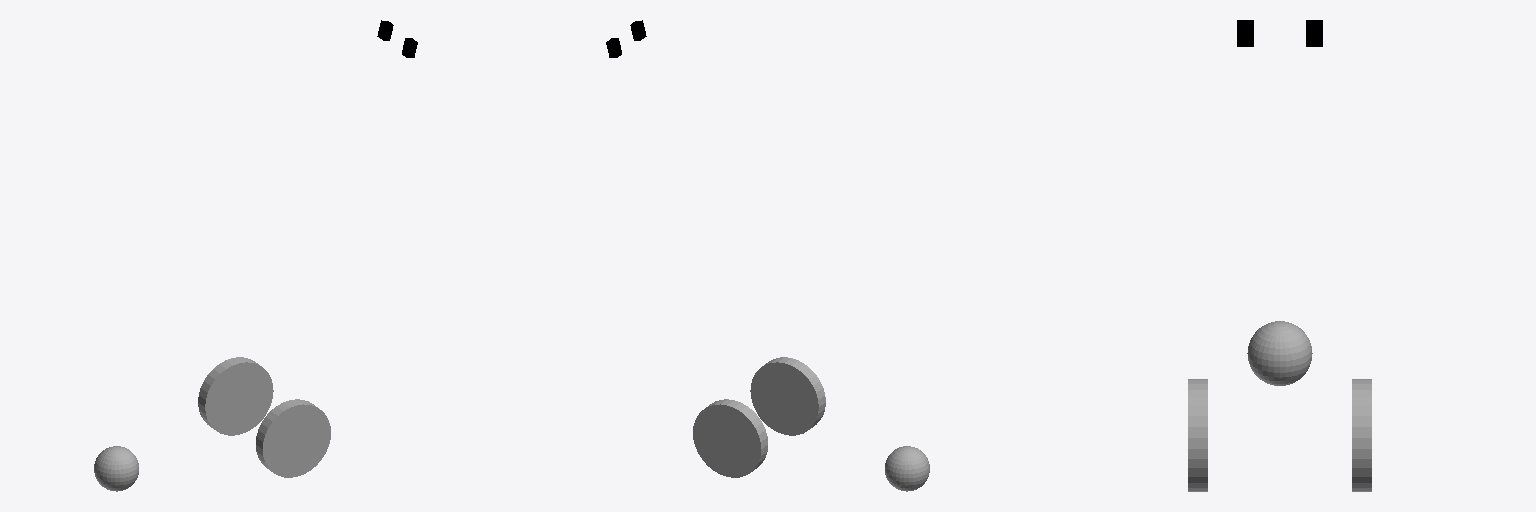
The robot description file, URDF, robot "k9_robot":
<?xml version="1.0" ?>
<!-- =================================================================================== -->
<!-- |    This document was autogenerated by xacro from k9.urdf.xacro                  | -->
<!-- |    EDITING THIS FILE BY HAND IS NOT RECOMMENDED                                 | -->
<!-- =================================================================================== -->
<robot name="k9_robot">
  <!-- ===================================================== -->
  <!-- To generate SDF for Gazebo Sim                        -->
  <!-- ros2 run xacro xacro k9.urdf.xacro > k9.urdf          -->
  <!-- gz sdf -p k9.urdf > k9_raw.sdf                        -->
  <!-- python3 patch_friction.py k9_raw.sdf k9_robot.sdf     -->
  <!-- ===================================================== -->
  <!-- ===================================================== -->
  <!-- Materials                                             -->
  <!-- ===================================================== -->
  <material name="K9_grey">
    <color rgba="0.25 0.25 0.25 1.0"/>
  </material>
  <material name="wheel_grey">
    <color rgba="0.7 0.7 0.7 1.0"/>
  </material>
  <material name="k9_ear_emissive">
    <color rgba="0 0 0 1"/>
  </material>
  <material name="k9_beam_material">
    <color rgba="0 1 0 1"/>
  </material>
  <!-- ===================================================== -->
  <!-- Frames                                                -->
  <!-- ===================================================== -->
  <link name="base_footprint"/>
  <!-- ===================================================== -->
  <!-- Base / chassis                                        -->
  <!-- ===================================================== -->
  <link name="base_link">
    <!-- Visual -->
    <visual>
      <origin rpy="0 0 3.141592653589793" xyz="-0.5 1.905 -0.0694"/>
      <geometry>
        <mesh filename="file://[local-path]/Documents/GitHub/k9-gazebo/src/k9_description/urdf/k9.stl" scale="0.01 0.01 0.01"/>
      </geometry>
      <material name="K9_grey"/>
    </visual>
    <!-- Collision -->
    <collision>
      <origin xyz="0.0 0.0 0.44"/>
      <geometry>
        <box size="1.05 0.49 0.74"/>
      </geometry>
    </collision>
    <!-- Inertia: main shell + structure -->
    <!-- CHANGED: lower + slightly rear-shift COM, and increase pitch inertia (iyy) -->
    <inertial>
      <!-- was: -0.02 0 0.20 -->
      <origin xyz="-0.06 0 0.16"/>
      <mass value="19.0"/>
      <inertia ixx="0.80" ixy="0" ixz="0" iyy="2.40" iyz="0" izz="1.70"/>
    </inertial>
  </link>
  <joint name="base_joint" type="fixed">
    <parent link="base_footprint"/>
    <child link="base_link"/>
    <origin xyz="0 0 0.0694"/>
  </joint>
  <!-- ===================================================== -->
  <!-- Battery (low + central)                               -->
  <!-- ===================================================== -->
  <link name="battery_link">
    <collision>
      <geometry>
        <box size="0.25 0.20 0.25"/>
      </geometry>
    </collision>
    <inertial>
      <origin xyz="0 0 0"/>
      <mass value="5.0"/>
      <inertia ixx="1e-4" ixy="0" ixz="0" iyy="1e-4" iyz="0" izz="1e-4"/>
    </inertial>
  </link>
  <joint name="battery_joint" type="fixed">
    <parent link="base_link"/>
    <child link="battery_link"/>
    <origin xyz="0 0 0.18"/>
  </joint>
  <!-- ===================================================== -->
  <!-- Motors                                                -->
  <!-- ===================================================== -->
  <link name="motors_link">
    <collision>
      <geometry>
        <box size="0.20 0.20 0.10"/>
      </geometry>
    </collision>
    <inertial>
      <origin xyz="0 0 0"/>
      <mass value="3.0"/>
      <inertia ixx="1e-4" ixy="0" ixz="0" iyy="1e-4" iyz="0" izz="1e-4"/>
    </inertial>
  </link>
  <joint name="motors_joint" type="fixed">
    <parent link="base_link"/>
    <child link="motors_link"/>
    <origin xyz="0 0 0.10"/>
  </joint>
  <link name="drivewhl_l_link">
    <visual>
      <origin rpy="1.5707963267948966 0 0"/>
      <geometry>
        <cylinder length="0.025" radius="0.0694"/>
      </geometry>
      <material name="wheel_grey"/>
    </visual>
    <collision>
      <origin rpy="1.5707963267948966 0 0"/>
      <geometry>
        <cylinder length="0.025" radius="0.0694"/>
      </geometry>
    </collision>
    <inertial>
      <mass value="1.0"/>
      <inertia ixx="0.002" ixy="0" ixz="0" iyy="0.002" iyz="0" izz="0.004"/>
    </inertial>
  </link>
  <gazebo reference="drivewhl_l_link">
    <mu1>0.9</mu1>
    <mu2>0.7</mu2>
  </gazebo>
  <joint name="drivewhl_l_joint" type="continuous">
    <parent link="base_link"/>
    <child link="drivewhl_l_link"/>
    <origin xyz="0 0.1011 0"/>
    <axis xyz="0 1 0"/>
    <dynamics damping="0.05"/>
  </joint>
  <link name="drivewhl_r_link">
    <visual>
      <origin rpy="1.5707963267948966 0 0"/>
      <geometry>
        <cylinder length="0.025" radius="0.0694"/>
      </geometry>
      <material name="wheel_grey"/>
    </visual>
    <collision>
      <origin rpy="1.5707963267948966 0 0"/>
      <geometry>
        <cylinder length="0.025" radius="0.0694"/>
      </geometry>
    </collision>
    <inertial>
      <mass value="1.0"/>
      <inertia ixx="0.002" ixy="0" ixz="0" iyy="0.002" iyz="0" izz="0.004"/>
    </inertial>
  </link>
  <gazebo reference="drivewhl_r_link">
    <mu1>0.9</mu1>
    <mu2>0.7</mu2>
  </gazebo>
  <joint name="drivewhl_r_joint" type="continuous">
    <parent link="base_link"/>
    <child link="drivewhl_r_link"/>
    <origin xyz="0 -0.1011 0"/>
    <axis xyz="0 1 0"/>
    <dynamics damping="0.05"/>
  </joint>
  <!-- ===================================================== -->
  <!-- Ball caster (4 cm sphere)                              -->
  <!-- ===================================================== -->
  <link name="ball_caster_link">
    <visual>
      <geometry>
        <sphere radius="0.04"/>
      </geometry>
      <material name="wheel_grey"/>
    </visual>
    <collision>
      <geometry>
        <sphere radius="0.04"/>
      </geometry>
    </collision>
    <inertial>
      <origin xyz="0 0 0"/>
      <mass value="0.5"/>
      <inertia ixx="1e-4" ixy="0" ixz="0" iyy="1e-4" iyz="0" izz="1e-4"/>
    </inertial>
  </link>
  <gazebo reference="ball_caster_link">
    <mu1>0.2</mu1>
    <mu2>0.2</mu2>
  </gazebo>
  <joint name="ball_caster_joint" type="fixed">
    <parent link="base_link"/>
    <child link="ball_caster_link"/>
    <origin xyz="-0.3 0 -0.029400000000000003"/>
  </joint>
  <!-- ===================================================== -->
  <!-- Sensors                                               -->
  <!-- ===================================================== -->
  <!-- started at 0.565 raised by 20 cm to clear body       -->
  <link name="base_laser">
    <inertial>
      <origin xyz="0 0 0"/>
      <mass value="0.05"/>
      <inertia ixx="1e-4" ixy="0" ixz="0" iyy="1e-4" iyz="0" izz="1e-4"/>
    </inertial>
  </link>
  <joint name="base_laser_joint" type="fixed">
    <parent link="base_link"/>
    <child link="base_laser"/>
    <origin rpy="0 0 0" xyz="-0.112 0 0.53"/>
  </joint>
  <gazebo reference="base_laser">
    <sensor name="ld06_lidar" type="gpu_lidar">
      <update_rate>10</update_rate>
      <always_on>true</always_on>
      <topic>/ld06/scan</topic>
      <pose>0 0 0 0 0 0</pose>
      <visualize>true</visualize>
      <gz_frame_id>base_laser</gz_frame_id>
      <frame_id>base_laser</frame_id>
      <lidar>
        <scan>
          <horizontal>
            <samples>360</samples>
            <min_angle>-3.14159</min_angle>
            <max_angle>3.14159</max_angle>
          </horizontal>
        </scan>
        <range>
          <min>0.02</min>
          <max>12.0</max>
        </range>
      </lidar>
    </sensor>
  </gazebo>
  <link name="eyecam_link">
    <inertial>
      <origin xyz="0 0 0"/>
      <mass value="0.05"/>
      <inertia ixx="1e-4" ixy="0" ixz="0" iyy="1e-4" iyz="0" izz="1e-4"/>
    </inertial>
  </link>
  <joint name="eyecam_joint" type="fixed">
    <parent link="base_link"/>
    <child link="eyecam_link"/>
    <origin xyz="0.366 0 0.67"/>
  </joint>
  <link name="3dcam_link">
    <inertial>
      <origin xyz="0 0 0"/>
      <mass value="0.1"/>
      <inertia ixx="1e-4" ixy="0" ixz="0" iyy="1e-4" iyz="0" izz="1e-4"/>
    </inertial>
  </link>
  <joint name="3dcam_joint" type="fixed">
    <parent link="base_link"/>
    <child link="3dcam_link"/>
    <origin xyz="0.206 0 0.255"/>
  </joint>
  <!-- ******************** LEFT EAR ****************************** -->
  <link name="l_ear_link">
    <!-- Visual (for Gazebo visualisation) -->
    <visual name="l_ear_visual">
      <origin rpy="0 0 0" xyz="0 0 0"/>
      <geometry>
        <box size="0.015 0.02 0.03"/>
      </geometry>
      <material name="k9_ear_emissive">
        <ambient>0 0 0 1</ambient>
        <diffuse>0 0 0 1</diffuse>
        <emissive>0 0 0 1</emissive>
        <!-- will be driven by Gazebo -->
      </material>
    </visual>
    <inertial>
      <origin xyz="0 0 0"/>
      <mass value="0.05"/>
      <inertia ixx="1e-4" ixy="0" ixz="0" iyy="1e-4" iyz="0" izz="1e-4"/>
    </inertial>
  </link>
  <gazebo reference="l_ear_link">
    <sensor name="l_ear_tof" type="gpu_lidar">
      <pose>0.0075 0 0 0 0 0</pose>
      <update_rate>30</update_rate>
      <always_on>true</always_on>
      <visualize>true</visualize>
      <topic>/l_ear/scan</topic>
      <gz_frame_id>l_ear_link</gz_frame_id>
      <frame_id>l_ear_link</frame_id>
      <lidar>
        <scan>
          <horizontal>
            <samples>3</samples>
            <resolution>1</resolution>
            <min_angle>-0.005</min_angle>
            <max_angle>0.005</max_angle>
          </horizontal>
        </scan>
        <range>
          <min>0.02</min>
          <max>2.0</max>
          <resolution>0.001</resolution>
        </range>
      </lidar>
    </sensor>
  </gazebo>
  <joint name="l_ear_joint" type="revolute">
    <parent link="base_link"/>
    <child link="l_ear_link"/>
    <origin rpy="0.0 0.25 0.0" xyz="0.27 0.0425 0.67"/>
    <axis xyz="0 0 1"/>
    <limit effort="2.0" lower="-0.2" upper="0.6" velocity="10"/>
    <dynamics damping="0.01" friction="0.01"/>
  </joint>
  <!-- ******************** RIGHT EAR ****************************** -->
  <link name="r_ear_link">
    <visual name="r_ear_visual">
      <origin rpy="0 0 0" xyz="0 0 0"/>
      <geometry>
        <box size="0.015 0.02 0.03"/>
      </geometry>
      <material name="k9_ear_emissive">
        <ambient>0 0 0 1</ambient>
        <diffuse>0 0 0 1</diffuse>
        <emissive>0 0 0 1</emissive>
      </material>
    </visual>
    <inertial>
      <origin xyz="0 0 0"/>
      <mass value="0.05"/>
      <inertia ixx="1e-4" ixy="0" ixz="0" iyy="1e-4" iyz="0" izz="1e-4"/>
    </inertial>
  </link>
  <gazebo reference="r_ear_link">
    <sensor name="r_ear_tof" type="gpu_lidar">
      <pose>0.0075 0 0 0 0 0</pose>
      <update_rate>30</update_rate>
      <always_on>true</always_on>
      <visualize>true</visualize>
      <topic>/r_ear/scan</topic>
      <gz_frame_id>r_ear_link</gz_frame_id>
      <frame_id>r_ear_link</frame_id>
      <lidar>
        <scan>
          <horizontal>
            <samples>3</samples>
            <resolution>1</resolution>
            <min_angle>-0.005</min_angle>
            <max_angle>0.005</max_angle>
          </horizontal>
        </scan>
        <range>
          <min>0.02</min>
          <max>2.0</max>
          <resolution>0.001</resolution>
        </range>
      </lidar>
    </sensor>
  </gazebo>
  <joint name="r_ear_joint" type="revolute">
    <parent link="base_link"/>
    <child link="r_ear_link"/>
    <origin rpy="0.0 0.25 0.0" xyz="0.27 -0.0425 0.67"/>
    <axis xyz="0 0 1"/>
    <limit effort="2.0" lower="-0.6" upper="0.2" velocity="10"/>
    <dynamics damping="0.01" friction="0.01"/>
  </joint>
  <!-- ===================================================== -->
  <!-- Ear Joint Movement (gz-sim, Jazzy)                    -->
  <!-- ===================================================== -->
  <ros2_control name="K9EarsSystem" type="system">
    <hardware>
      <plugin>gz_ros2_control/GazeboSimSystem</plugin>
    </hardware>
    <joint name="l_ear_joint">
      <command_interface name="position"/>
      <state_interface name="position"/>
      <state_interface name="velocity"/>
    </joint>
    <joint name="r_ear_joint">
      <command_interface name="position"/>
      <state_interface name="position"/>
      <state_interface name="velocity"/>
    </joint>
  </ros2_control>
  <!-- ===================================================== -->
  <!-- IMU (gz-sim, Jazzy)                                   -->
  <!-- ===================================================== -->
  <!-- A tiny link to carry the IMU sensor -->
  <link name="imu_link">
    <inertial>
      <origin rpy="0 0 0" xyz="0 0 0"/>
      <mass value="0.02"/>
      <inertia ixx="1e-6" ixy="0" ixz="0" iyy="1e-6" iyz="0" izz="1e-6"/>
    </inertial>
  </link>
  <joint name="imu_link_joint" type="fixed">
    <parent link="base_link"/>
    <child link="imu_link"/>
    <origin rpy="0 0 0" xyz="0 0 0.16"/>
  </joint>
  <!-- Gazebo Sim sensor definition -->
  <gazebo reference="imu_link">
    <sensor name="imu_link_sensor" type="imu">
      <topic>/k9/imu</topic>
      <always_on>true</always_on>
      <visualize>false</visualize>
      <update_rate>200</update_rate>
      <!-- Noise model (tune these to feel like your BNO080) -->
      <imu>
        <angular_velocity>
          <x>
            <noise type="gaussian">
              <mean>0.0</mean>
              <stddev>0.001</stddev>
              <bias_mean>0.0</bias_mean>
              <bias_stddev>0.0</bias_stddev>
            </noise>
          </x>
          <y>
            <noise type="gaussian">
              <mean>0.0</mean>
              <stddev>0.001</stddev>
              <bias_mean>0.0</bias_mean>
              <bias_stddev>0.0</bias_stddev>
            </noise>
          </y>
          <z>
            <noise type="gaussian">
              <mean>0.0</mean>
              <stddev>0.001</stddev>
              <bias_mean>0.0</bias_mean>
              <bias_stddev>0.0</bias_stddev>
            </noise>
          </z>
        </angular_velocity>
        <linear_acceleration>
          <x>
            <noise type="gaussian">
              <mean>0.0</mean>
              <stddev>0.01</stddev>
              <bias_mean>0.0</bias_mean>
              <bias_stddev>0.0</bias_stddev>
            </noise>
          </x>
          <y>
            <noise type="gaussian">
              <mean>0.0</mean>
              <stddev>0.01</stddev>
              <bias_mean>0.0</bias_mean>
              <bias_stddev>0.0</bias_stddev>
            </noise>
          </y>
          <z>
            <noise type="gaussian">
              <mean>0.0</mean>
              <stddev>0.01</stddev>
              <bias_mean>0.0</bias_mean>
              <bias_stddev>0.0</bias_stddev>
            </noise>
          </z>
        </linear_acceleration>
      </imu>
    </sensor>
  </gazebo>
  <!-- A tiny link to carry the camera sensor -->
  <link name="oakd_link">
    <inertial>
      <origin rpy="0 0 0" xyz="0 0 0"/>
      <mass value="0.05"/>
      <inertia ixx="1e-5" ixy="0" ixz="0" iyy="1e-5" iyz="0" izz="1e-5"/>
    </inertial>
  </link>
  <joint name="oakd_link_joint" type="fixed">
    <parent link="base_link"/>
    <child link="oakd_link"/>
    <origin rpy="0 0 0" xyz="0.26 0 0.255"/>
  </joint>
  <!-- Depth frame used by Gazebo / depthimage_to_laserscan -->
  <link name="camera_depth_frame"/>
  <joint name="camera_depth_frame_joint" type="fixed">
    <parent link="oakd_link"/>
    <!-- or oakd_link / 3dcam_link, whichever is your camera body -->
    <child link="camera_depth_frame"/>
    <origin rpy="-1.5707963267948966 0 -1.5707963267948966" xyz="0 0 0"/>
  </joint>
  <gazebo reference="oakd_link">
    <sensor name="oakd_link_rgbd" type="rgbd_camera">
      <always_on>true</always_on>
      <visualize>false</visualize>
      <update_rate>30</update_rate>
      <topic>/oak</topic>
      <camera>
        <horizontal_fov>1.3962634</horizontal_fov>
        <image>
          <width>640</width>
          <height>400</height>
        </image>
        <clip>
          <near>0.2</near>
          <far>8.0</far>
        </clip>
        <noise>
          <type>gaussian</type>
          <mean>0.0</mean>
          <stddev>0.003</stddev>
        </noise>
      </camera>
    </sensor>
  </gazebo>
  <!-- ===================================================== -->
  <!-- Gazebo Diff Drive (gz-sim, Jazzy)                     -->
  <!-- ===================================================== -->
  <gazebo>
    <plugin filename="gz-sim-diff-drive-system" name="gz::sim::systems::DiffDrive">
      <left_joint>drivewhl_l_joint</left_joint>
      <right_joint>drivewhl_r_joint</right_joint>
      <wheel_separation>0.2022</wheel_separation>
      <wheel_radius>0.0694</wheel_radius>
      <max_linear_velocity>1.4</max_linear_velocity>
      <max_angular_velocity>0.63</max_angular_velocity>
      <!-- CHANGED: lower accel also caps braking decel (less "nose dive") -->
      <max_linear_acceleration>0.28</max_linear_acceleration>
      <max_angular_acceleration>0.21</max_angular_acceleration>
      <topic>/cmd_vel</topic>
      <odom_topic>/odom</odom_topic>
      <odom_publish_frequency>50</odom_publish_frequency>
      <tf_topic>/tf</tf_topic>
      <frame_id>odom</frame_id>
      <child_frame_id>base_footprint</child_frame_id>
    </plugin>
  </gazebo>
  <gazebo>
    <plugin filename="/opt/ros/jazzy/lib/libgz_ros2_control-system.so" name="gz_ros2_control::GazeboSimROS2ControlPlugin">
      <parameters>[local-path]/Documents/GitHub/k9-gazebo/src/k9_robot/src/description/ear_controllers.yaml</parameters>
    </plugin>
  </gazebo>
</robot>

--- Render facts (derived) ---
The picture shows the robot from 3 angles, left to right: view 1: azimuth 30°, elevation 25°; view 2: azimuth 150°, elevation 25°; view 3: azimuth 270°, elevation 25°; orthographic projection.
Model k9_robot with 15 links and 14 joints (2 revolute, 2 continuous, 10 fixed), rooted at base_footprint, posed every joint at zero.
Visible links, largest first — view 1: drivewhl_r_link, drivewhl_l_link, ball_caster_link; view 2: drivewhl_l_link, drivewhl_r_link, ball_caster_link; view 3: ball_caster_link, drivewhl_l_link, drivewhl_r_link.
Link boxes in pixels (bbox=[...]): drivewhl_r_link: bbox=[256, 399, 330, 477]; drivewhl_l_link: bbox=[198, 357, 273, 435]; ball_caster_link: bbox=[94, 446, 138, 491]; drivewhl_l_link: bbox=[693, 399, 767, 477]; drivewhl_r_link: bbox=[750, 357, 825, 435]; ball_caster_link: bbox=[885, 446, 929, 491]; ball_caster_link: bbox=[1247, 321, 1312, 385]; drivewhl_l_link: bbox=[1352, 379, 1371, 491]; drivewhl_r_link: bbox=[1188, 379, 1207, 491].
Bounding box of the posed robot: 0.621 × 0.2272 × 0.7558 m (x, y, z).
Geometry: only primitive shapes (box / cylinder / sphere) drawn; not drawn: 1 mesh visual (reference in a form the renderer does not follow).
